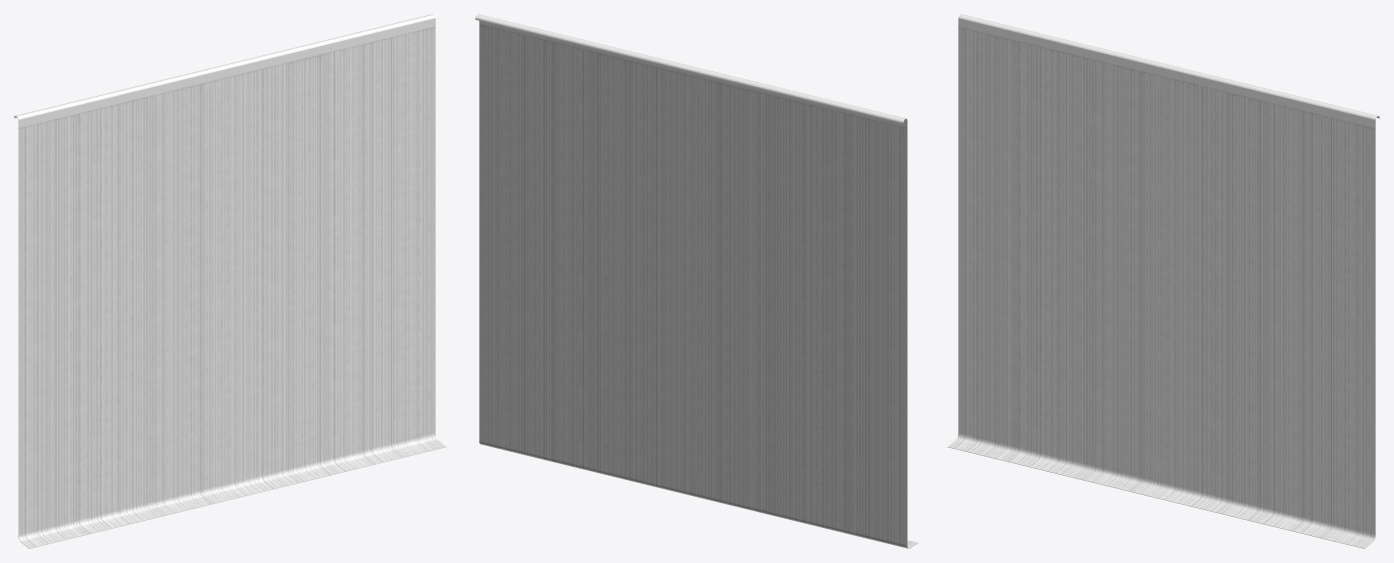
Rendered from PartyBackdrop02_5.FBX.
3 views of the same model, side by side, from view 1: azimuth 30°, elevation 25°; view 2: azimuth 150°, elevation 25°; view 3: azimuth 330°, elevation 25° (orthographic). The views are drawn at different scales.
Parts seen in each view (by area): view 1: PartyBackdrop02_5; view 2: PartyBackdrop02_5; view 3: PartyBackdrop02_5.
Boxes of the visible parts, bbox=[...] form: PartyBackdrop02_5: bbox=[14, 14, 446, 548]; PartyBackdrop02_5: bbox=[475, 14, 918, 548]; PartyBackdrop02_5: bbox=[947, 14, 1379, 548].
Size of what is drawn, in the model's own units: 2.58 by 2.5 by 0.1615.
